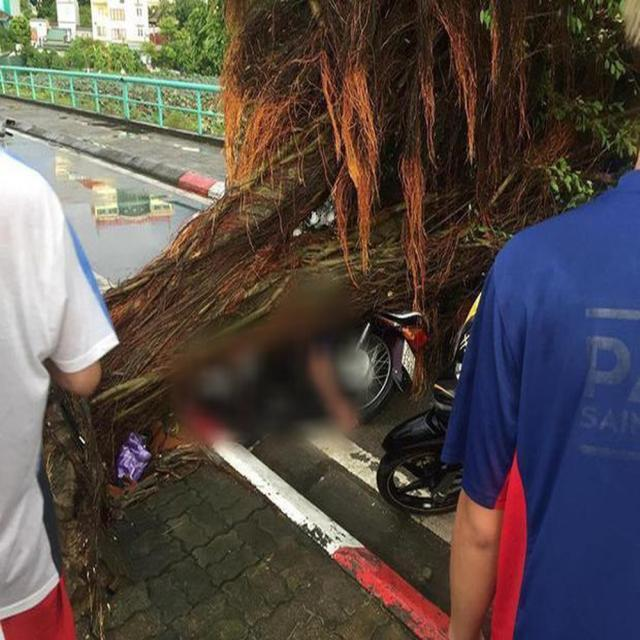fallen_object: (10, 9, 640, 456)
